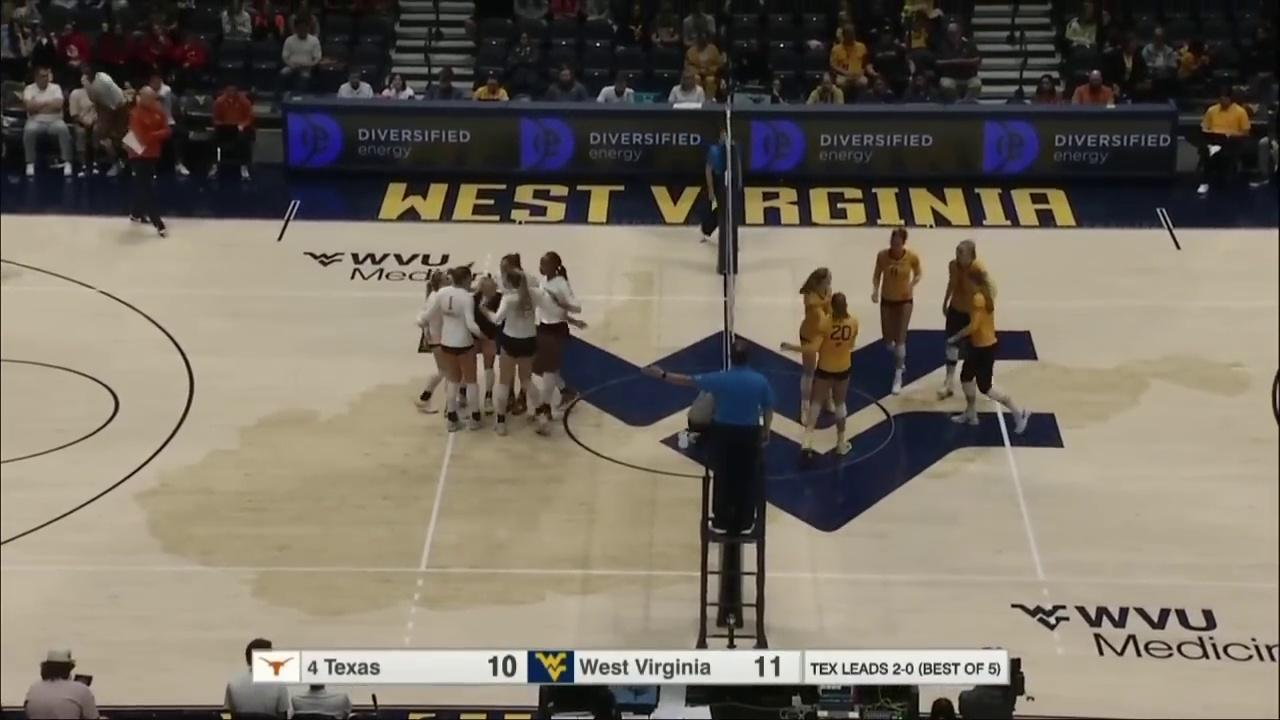player: (951, 271, 1031, 432), (785, 293, 859, 459), (425, 268, 484, 431), (495, 253, 554, 413), (871, 227, 924, 396), (941, 242, 997, 399), (496, 267, 544, 431), (536, 252, 583, 415), (417, 269, 464, 412), (799, 267, 839, 422), (474, 274, 515, 409)
refree: (650, 345, 771, 535), (700, 129, 744, 239)
